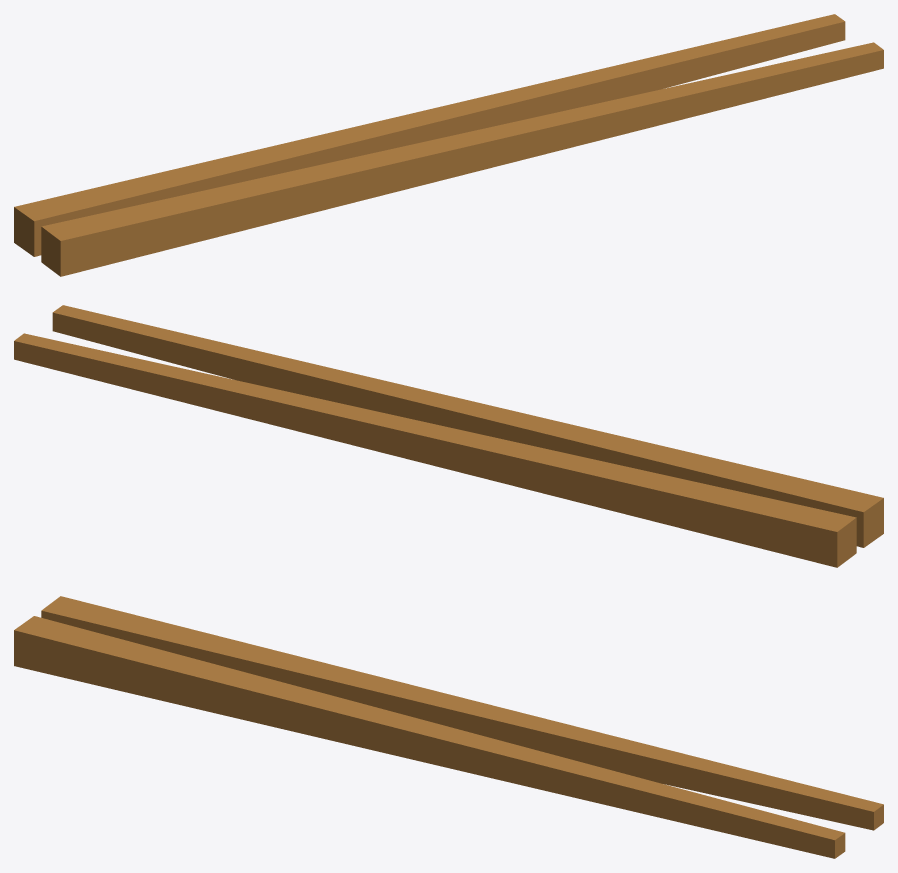
The model's file is SM_Cook_Chopsticks_01.glb.
3 renders of one model, top to bottom at view 1: azimuth 30°, elevation 25°; view 2: azimuth 150°, elevation 25°; view 3: azimuth 330°, elevation 25°, orthographic.
Visible parts, largest first — view 1: SM_Cook_Chopsticks_01; view 2: SM_Cook_Chopsticks_01; view 3: SM_Cook_Chopsticks_01.
Part boxes in pixels (<box>): SM_Cook_Chopsticks_01: <box>14,14,883,276</box>; SM_Cook_Chopsticks_01: <box>14,305,883,567</box>; SM_Cook_Chopsticks_01: <box>14,596,883,858</box>.
Size of the model in its own units: 0.2401 by 0.01 by 0.0248.
1 material, 1 textured.
